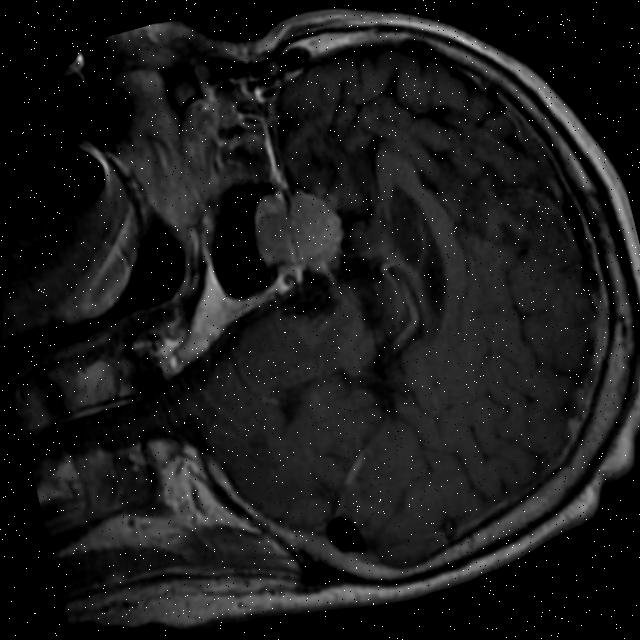Pituitary: (243, 176, 352, 288)
